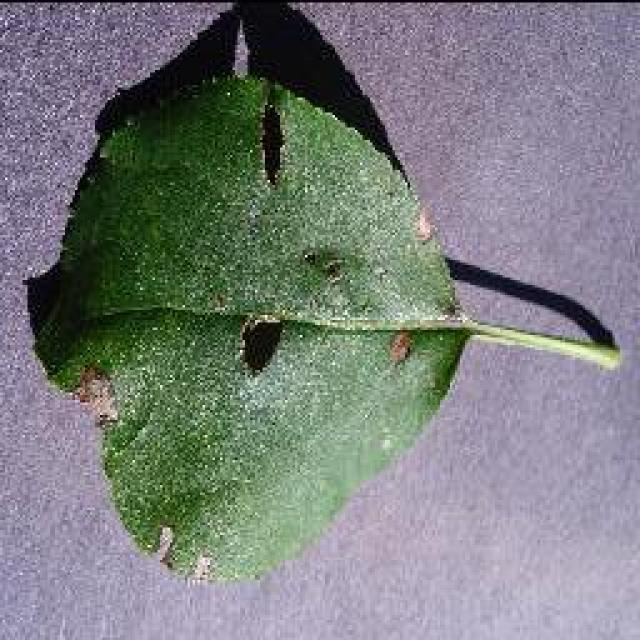Black_rot: (22, 3, 620, 585)
